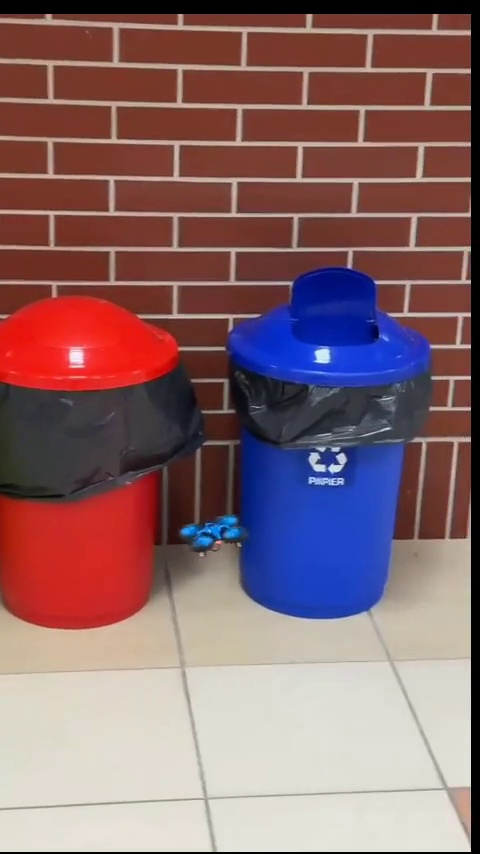drone: (180, 518, 251, 556)
